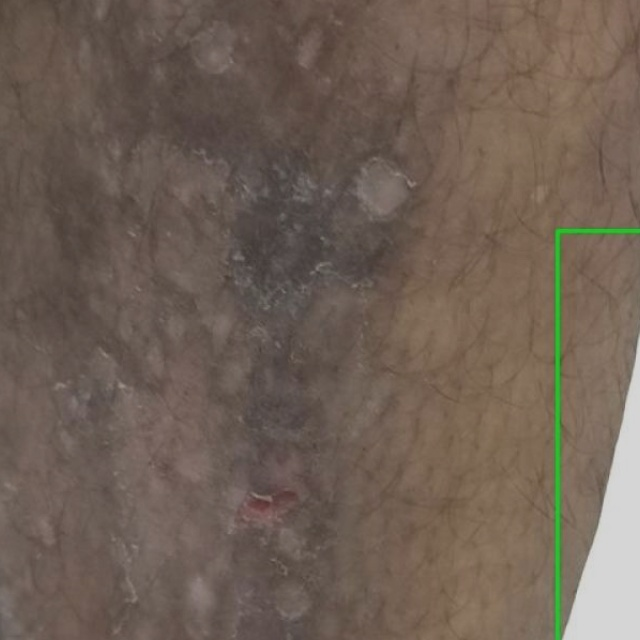Eczema: (557, 230, 639, 639)
